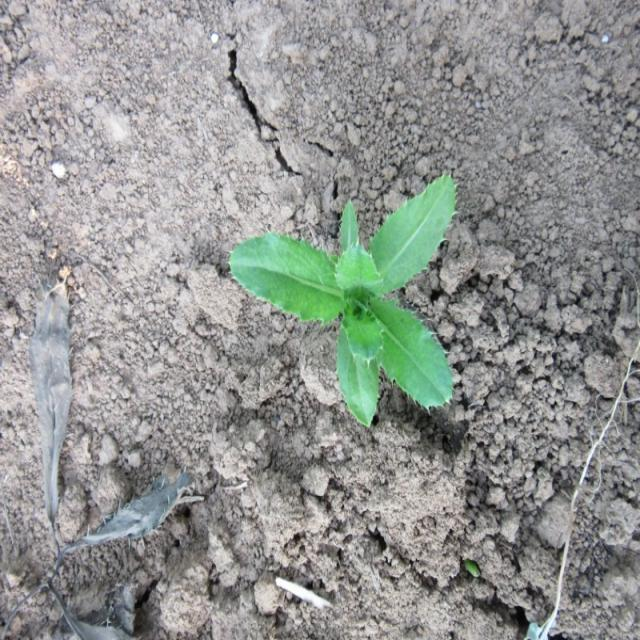cs: (229, 172, 461, 427)
